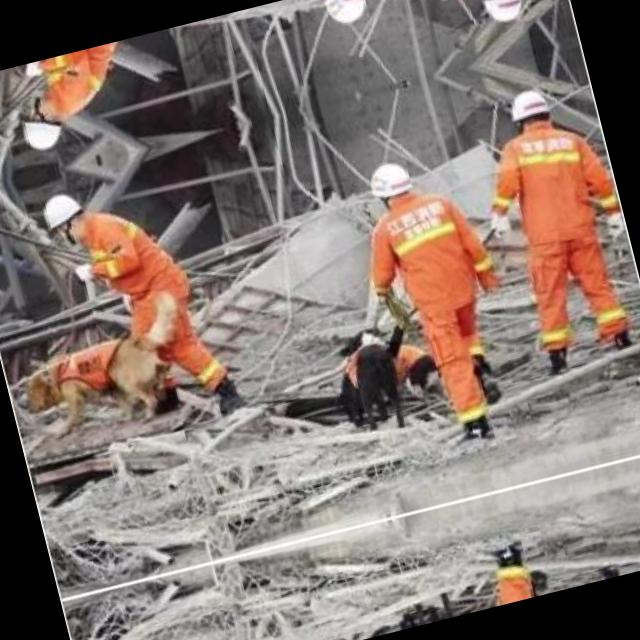helmet: (362, 154, 419, 213), (38, 187, 92, 248), (15, 94, 68, 155), (503, 82, 556, 138), (319, 0, 375, 32), (475, 0, 528, 28)
